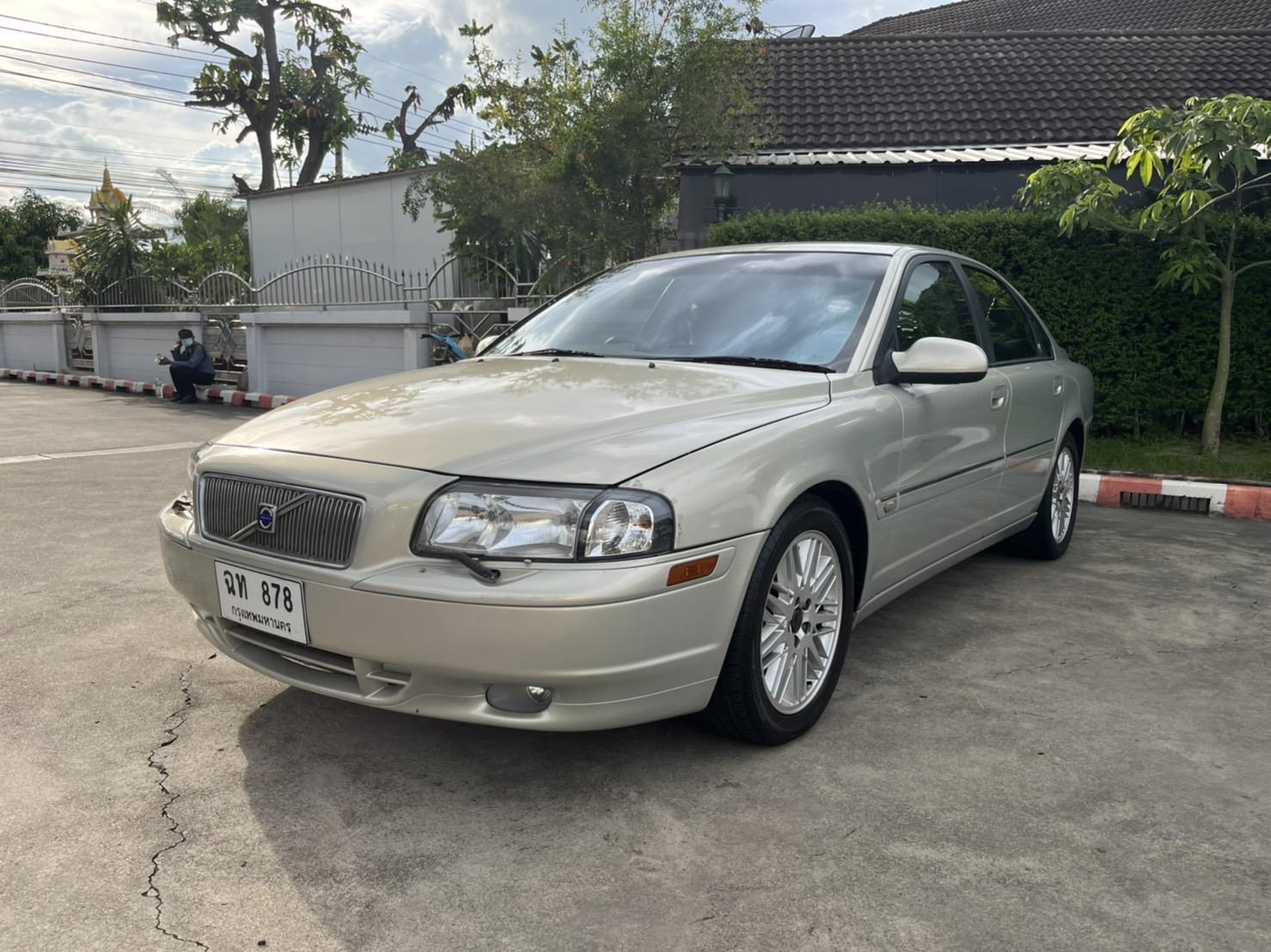license-plate: (213, 553, 312, 650)
